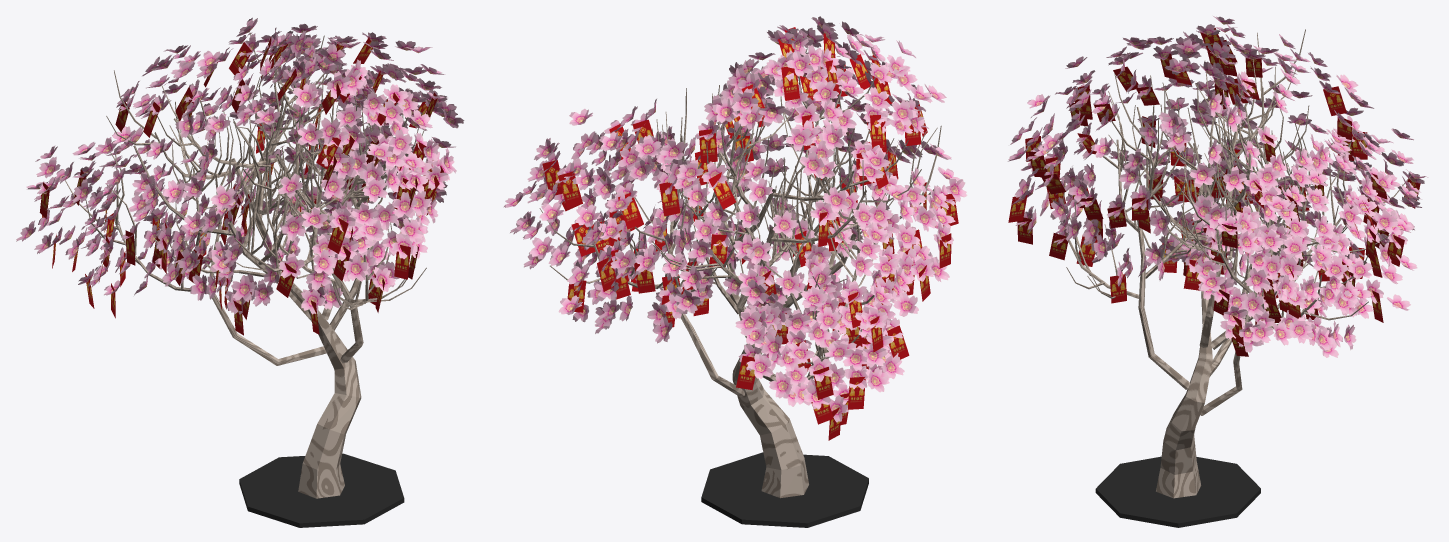
File: asian_tree_export.obj
The picture shows the model from 3 angles, left to right: view 1: azimuth 30°, elevation 25°; view 2: azimuth 150°, elevation 25°; view 3: azimuth 270°, elevation 25°; orthographic projection. The views are drawn at different scales.
Parts seen in each view (by area): view 1: flower_clone.1, envelope.1, lvl_3, Disc, Sweep, lvl_2, lvl_1, lvl_2_trunk_tip; view 2: flower_clone.1, envelope.1, Disc, lvl_3, Sweep, lvl_2, lvl_1; view 3: flower_clone.1, envelope.1, lvl_3, Disc, Sweep, lvl_1, lvl_2, lvl_2_trunk_tip.
Part boxes in pixels (left/top/right/bottom): flower_clone.1: left=16, top=17, right=464, bottom=314; envelope.1: left=39, top=36, right=444, bottom=335; lvl_3: left=65, top=32, right=426, bottom=309; Disc: left=239, top=453, right=404, bottom=527; Sweep: left=298, top=309, right=361, bottom=498; lvl_2: left=114, top=67, right=385, bottom=305; lvl_1: left=173, top=154, right=373, bottom=370; lvl_2_trunk_tip: left=133, top=121, right=287, bottom=276; flower_clone.1: left=503, top=16, right=967, bottom=422; envelope.1: left=542, top=27, right=958, bottom=440; Disc: left=701, top=452, right=868, bottom=527; lvl_3: left=539, top=48, right=941, bottom=378; Sweep: left=732, top=332, right=808, bottom=498; lvl_2: left=593, top=98, right=937, bottom=361; lvl_1: left=665, top=189, right=839, bottom=397; flower_clone.1: left=1007, top=16, right=1428, bottom=357; envelope.1: left=1008, top=28, right=1420, bottom=356; lvl_3: left=1062, top=29, right=1411, bottom=320; Disc: left=1095, top=456, right=1260, bottom=527; Sweep: left=1156, top=324, right=1212, bottom=498; lvl_1: left=1137, top=178, right=1278, bottom=415; lvl_2: left=1068, top=87, right=1349, bottom=328; lvl_2_trunk_tip: left=1148, top=96, right=1274, bottom=259.
Size of the model in its own units: 247 by 272 by 236.
